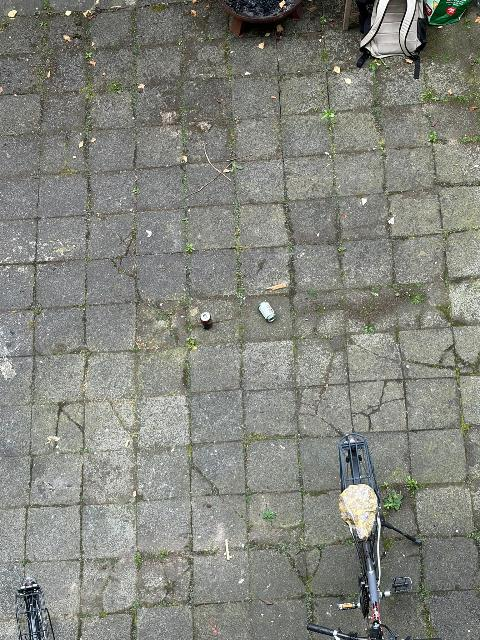can: (257, 301, 275, 322), (199, 312, 215, 331)
